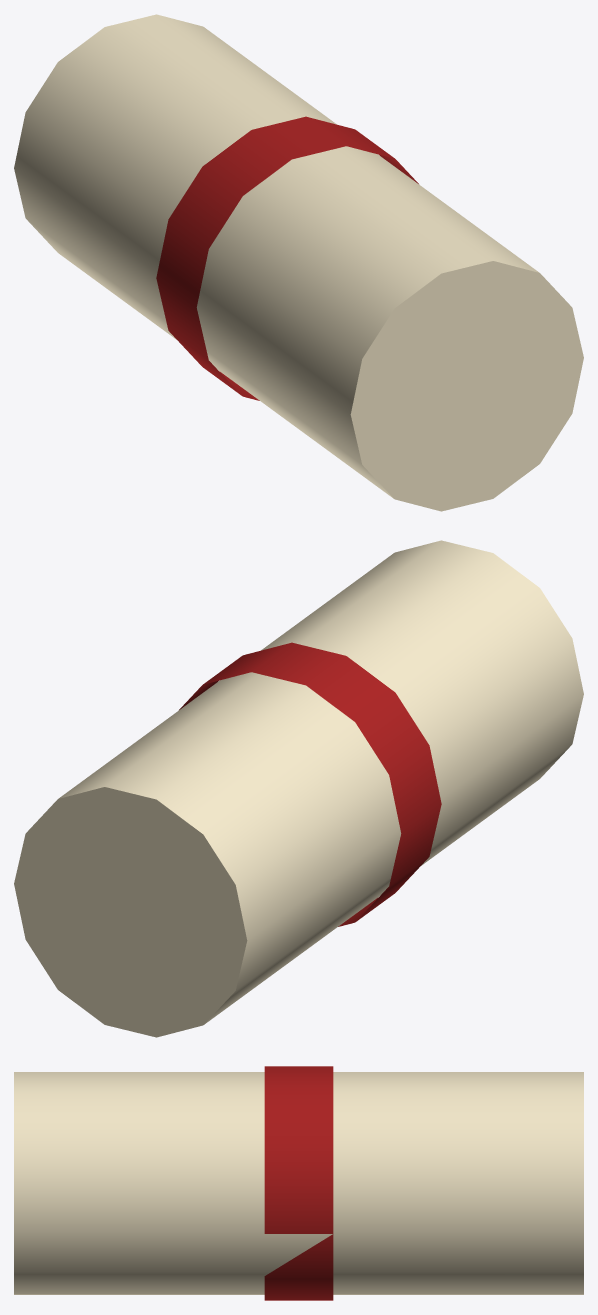
Rendered from pickup_scroll.obj.
3 views of the same model, one above another, from view 1: azimuth 30°, elevation 25°; view 2: azimuth 150°, elevation 25°; view 3: azimuth 270°, elevation 25° (orthographic). The views are drawn at different scales.
Visible parts, largest first — view 1: pickup_scroll; view 2: pickup_scroll; view 3: pickup_scroll.
Boxes of the visible parts, x1,y1,x2,y2 form: pickup_scroll: (14, 14, 583, 511); pickup_scroll: (14, 540, 583, 1037); pickup_scroll: (14, 1066, 583, 1300).
Size of the model in its own units: 0.126 by 0.1228 by 0.3.
